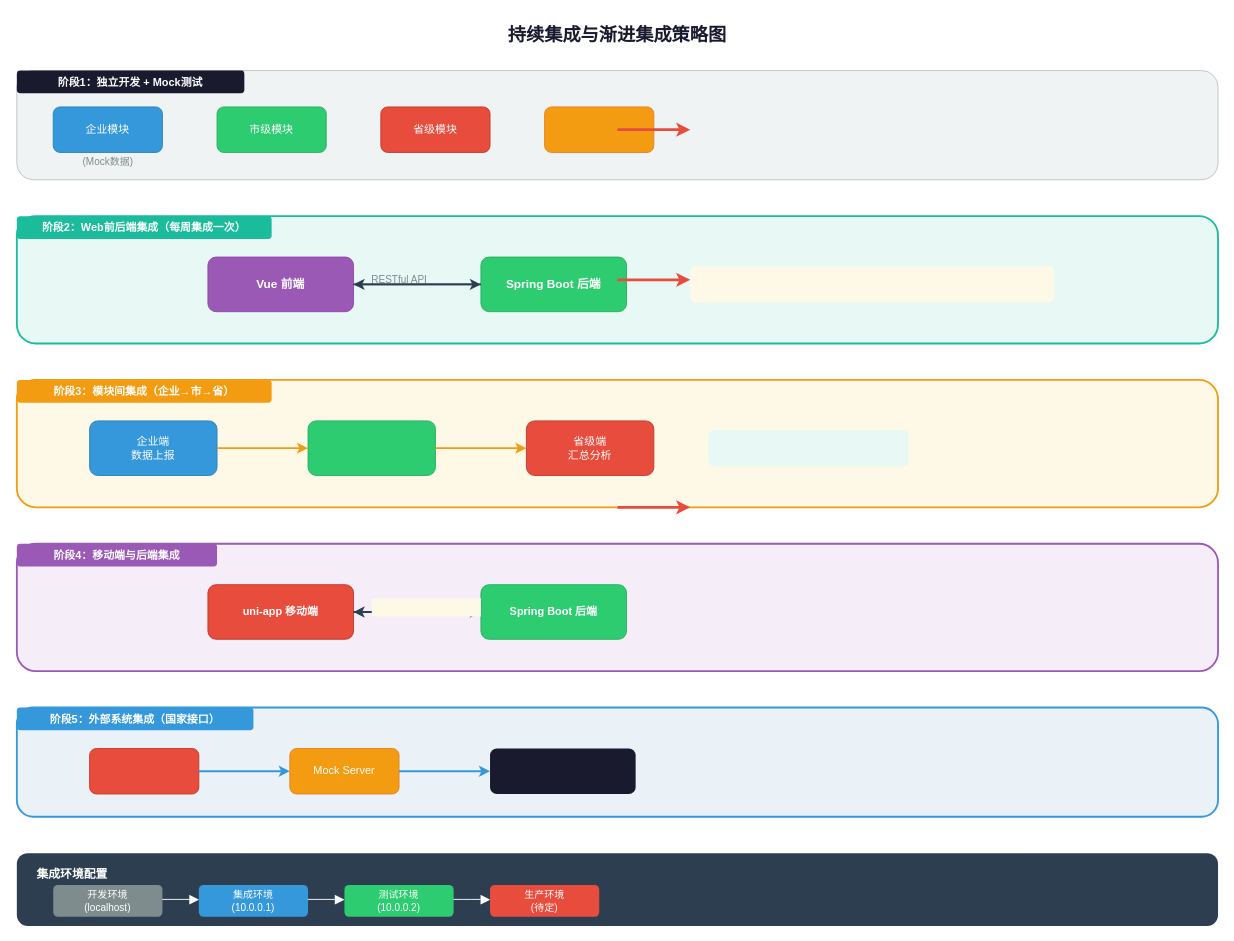
The diagram is 1234 pixels wide and 941 high, and some of its shapes have lost their labels. Each missing label, with the centre of its shape:
"CI触发：push到develop → 自动编译 → 单元测试 → 部署到集成环境" goes at (x=872, y=284).
"国家失业监测系统" goes at (x=562, y=771).
"复用80% Web端接口" goes at (x=425, y=607).
"市级端 审核通过" goes at (x=371, y=447).
"省级后端" goes at (x=144, y=771).
"移动端" goes at (x=599, y=129).
"端到端测试：完整业务流程验证" goes at (x=808, y=448).
